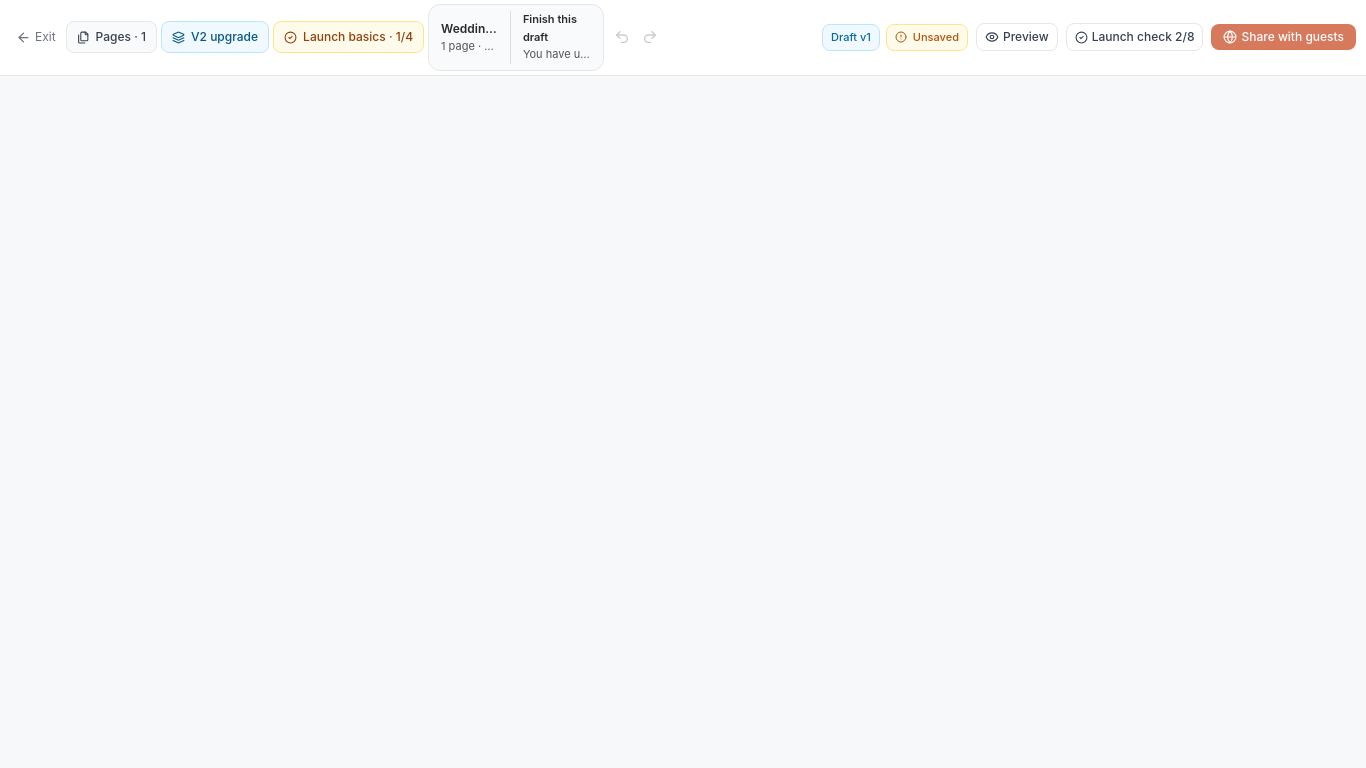
BuilderTopBar exit routes › sends leave-anyway confirmation to the overview workspace when edits are dirty
The width and height of the screenshot is (1366, 768).
Later steps or results of the test are not shown.
Click the button titled "Back to Dashboard" at (36, 37), box [10,26,62,48]
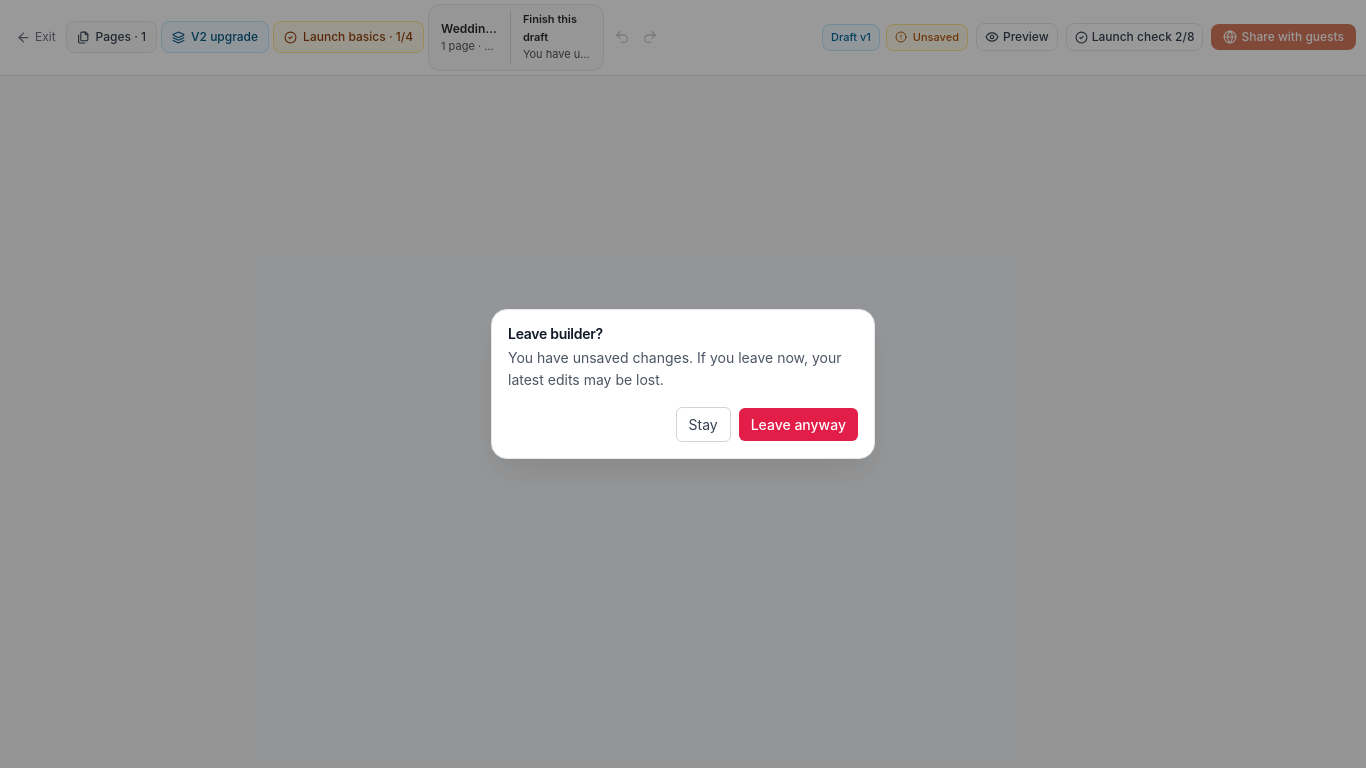
Expected: the heading "Leave builder?" is shown, [508,325,603,342]
